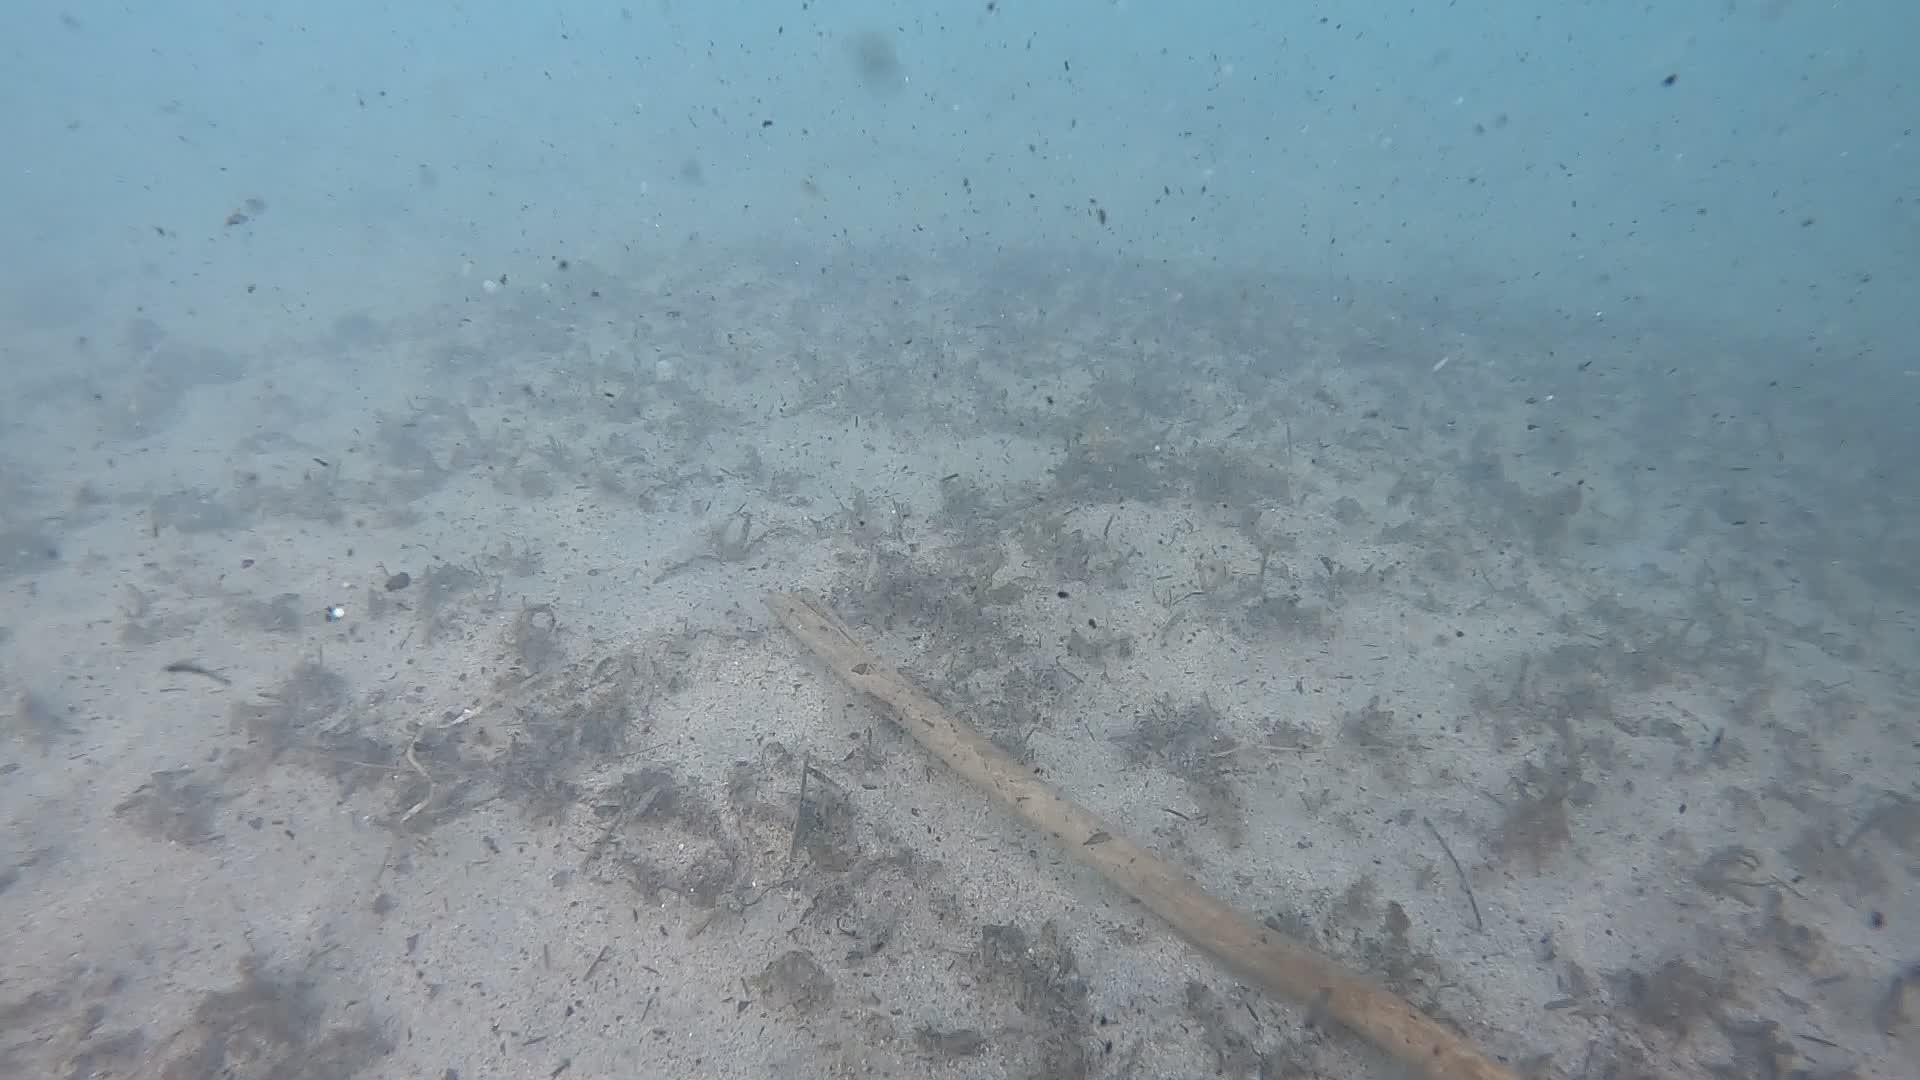wood: (766, 579, 1497, 1080)
